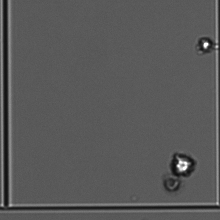Dead Cell: (163, 170, 182, 196)
Living Cell: (172, 150, 201, 177), (194, 32, 214, 58)
